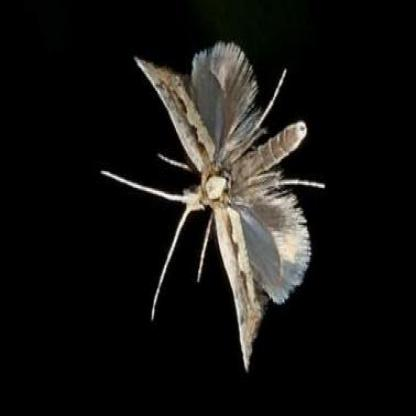plutella: (99, 44, 311, 369)
